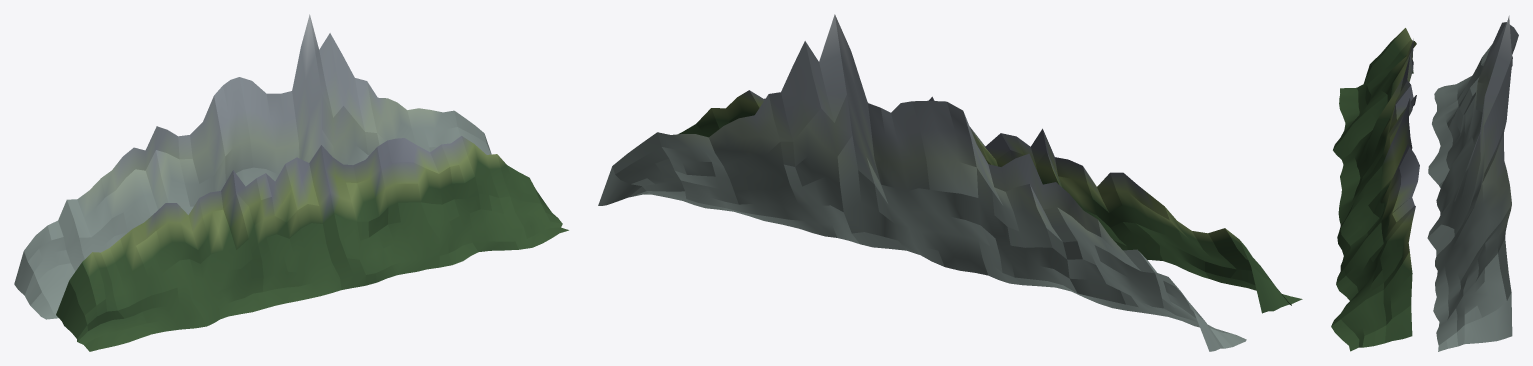
The model's file is alps_backdrop.glb.
3 renders of one model, left to right at view 1: azimuth 30°, elevation 25°; view 2: azimuth 150°, elevation 25°; view 3: azimuth 270°, elevation 25°, orthographic. The views are drawn at different scales.
Visible parts, largest first — view 1: alps_backdrop_mesh; view 2: alps_backdrop_mesh; view 3: alps_backdrop_mesh.
Boxes of the visible parts, box(x1,y1,x2,y2) form: alps_backdrop_mesh: box(14, 14, 568, 351); alps_backdrop_mesh: box(598, 14, 1302, 351); alps_backdrop_mesh: box(1331, 15, 1518, 351).
Size of the model in its own units: 78.61 by 32.38 by 23.58.
